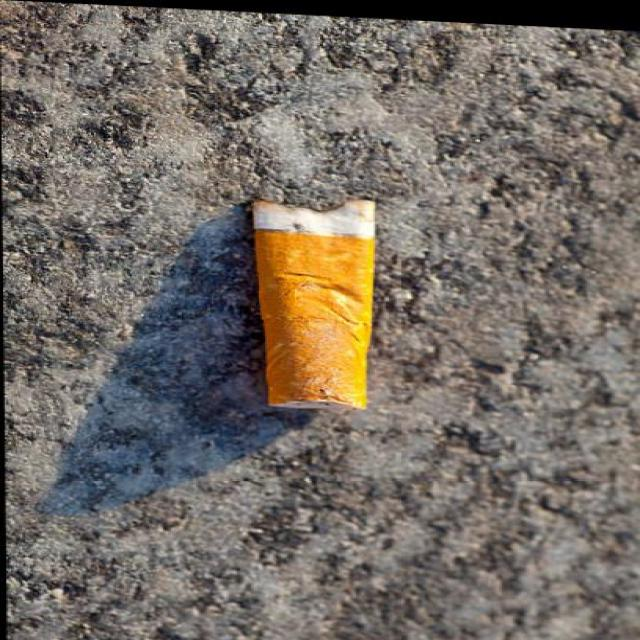cigarette: (245, 186, 387, 414)
